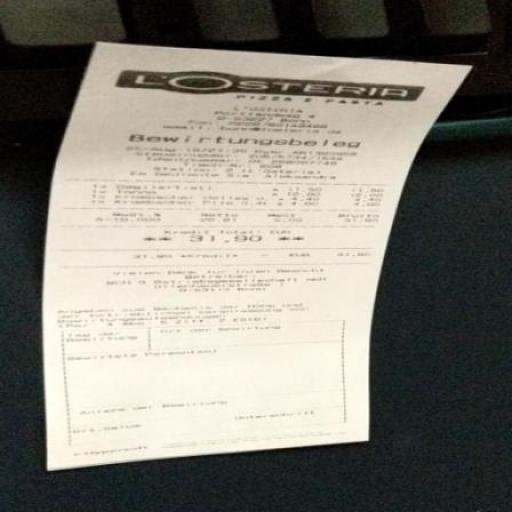paper: (15, 6, 467, 500)
